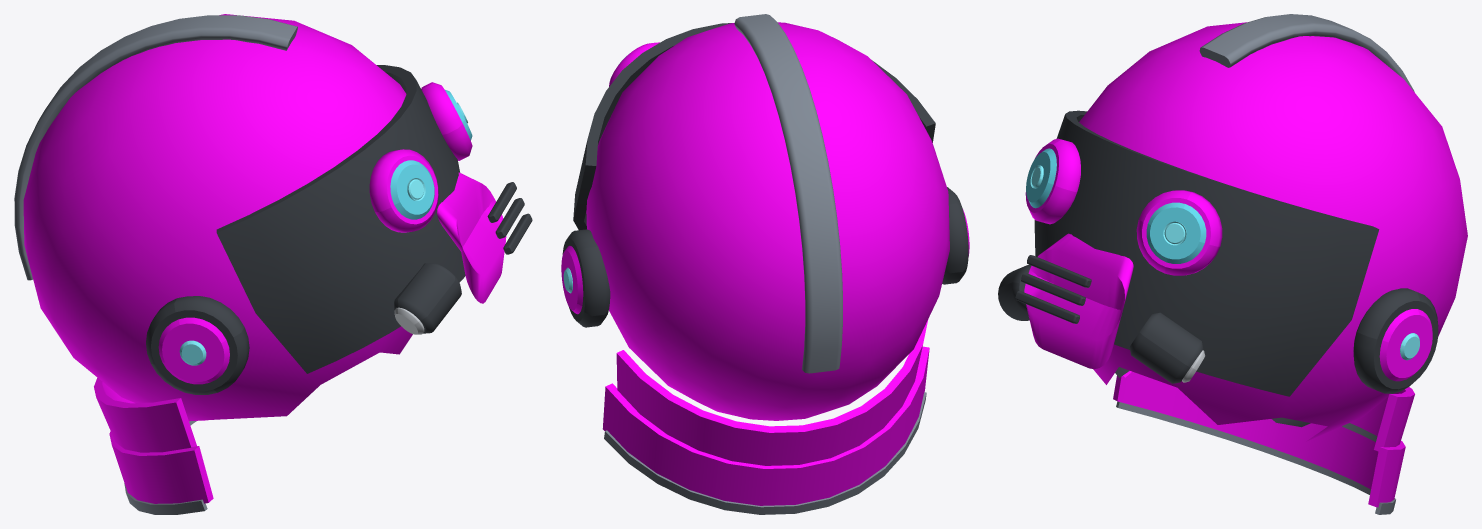
Rendered from objet_armure4_casque.glb.
3 views of the same model, side by side, from view 1: azimuth 30°, elevation 25°; view 2: azimuth 150°, elevation 25°; view 3: azimuth 270°, elevation 25° (orthographic). The views are drawn at different scales.
Visible parts, largest first — view 1: tete__casque_teinte.010, tete__casque_teinte_sombre.010, tete__casque_acier_lisere.002, tete__casque_visiere.004, tete__casque_lueur.002; view 2: tete__casque_teinte.010, tete__casque_acier_lisere.002, tete__casque_teinte_sombre.010; view 3: tete__casque_teinte.010, tete__casque_teinte_sombre.010, tete__casque_acier_lisere.002, tete__casque_visiere.004, tete__casque_lueur.002.
Part boxes in pixels (bbox=[...]): tete__casque_teinte.010: bbox=[23, 14, 506, 503]; tete__casque_teinte_sombre.010: bbox=[146, 65, 532, 394]; tete__casque_acier_lisere.002: bbox=[14, 15, 297, 514]; tete__casque_visiere.004: bbox=[390, 90, 472, 219]; tete__casque_lueur.002: bbox=[179, 102, 467, 365]; tete__casque_teinte.010: bbox=[561, 22, 969, 505]; tete__casque_acier_lisere.002: bbox=[604, 14, 926, 514]; tete__casque_teinte_sombre.010: bbox=[562, 23, 968, 327]; tete__casque_teinte.010: bbox=[1024, 22, 1467, 507]; tete__casque_teinte_sombre.010: bbox=[998, 110, 1438, 427]; tete__casque_acier_lisere.002: bbox=[1116, 14, 1414, 514]; tete__casque_visiere.004: bbox=[1026, 148, 1206, 263]; tete__casque_lueur.002: bbox=[1030, 165, 1419, 360].
Size of the model in its own units: 0.2883 by 0.3249 by 0.2868.
